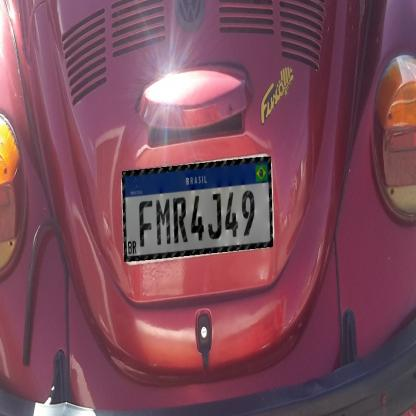PlacaM: (122, 156, 273, 262)
